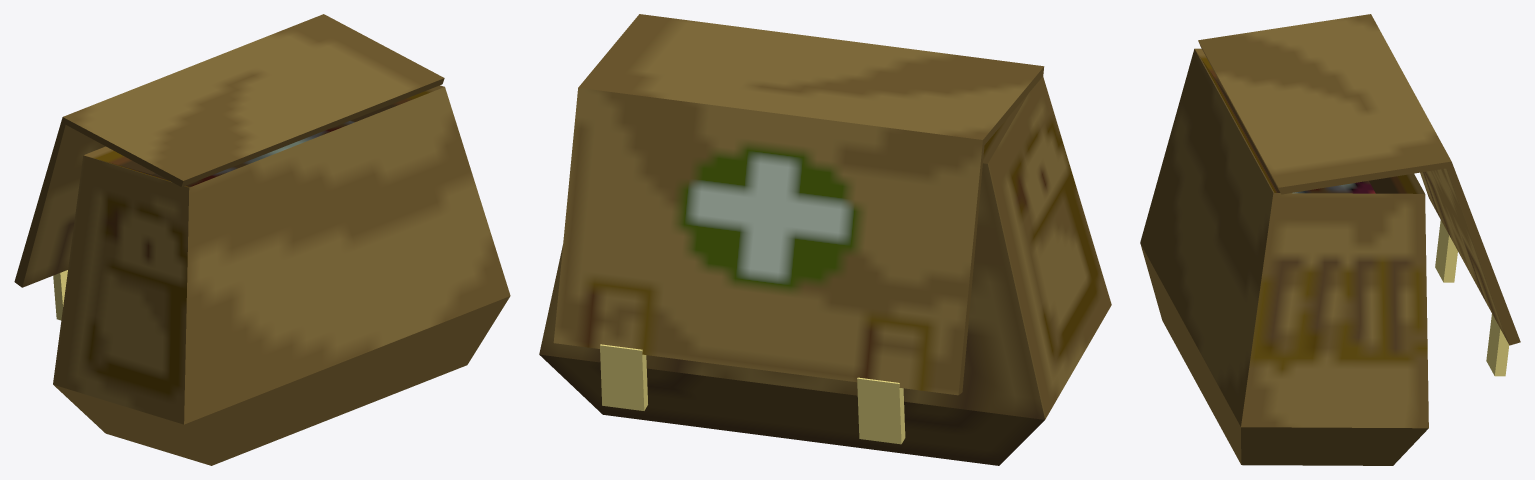
The model's file is large-medipack.glb.
3 views of the same model, side by side, from view 1: azimuth 30°, elevation 25°; view 2: azimuth 150°, elevation 25°; view 3: azimuth 270°, elevation 25° (orthographic). The views are drawn at different scales.
Visible parts, largest first — view 1: M000, M001; view 2: M001, M000; view 3: M000, M001.
Boxes of the visible parts, x1,y1,x2,y2 form: M000: (53, 85, 510, 465); M001: (14, 14, 444, 320); M001: (553, 14, 1044, 444); M000: (539, 76, 1111, 465); M000: (1140, 48, 1428, 465); M001: (1198, 14, 1520, 376).
Bounding box in the file's own units: 129 × 88.79 × 102.
Materials: 1 (1 with a texture image).
